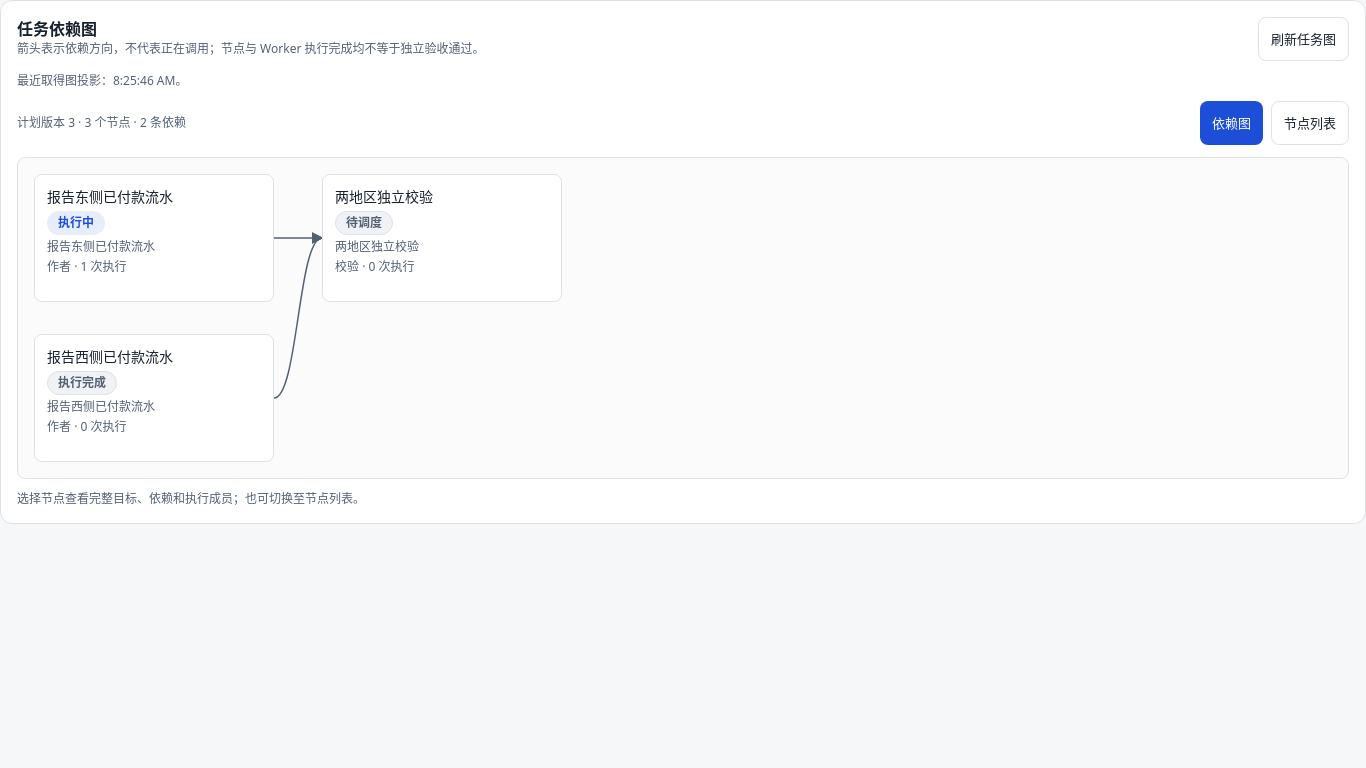
Test: 任务图读取/恢复 › 读取失败保留旧投影并明确陈旧，手动刷新可恢复
Expected: the button with aria-label "查看节点 east，作者，执行中" is shown, 34,174 -> 274,302
What coordinates should you click on to do the following:
click the button "刷新任务图"
I would click on:
 (1304, 39)
Its box is 1258,17 -> 1349,61.
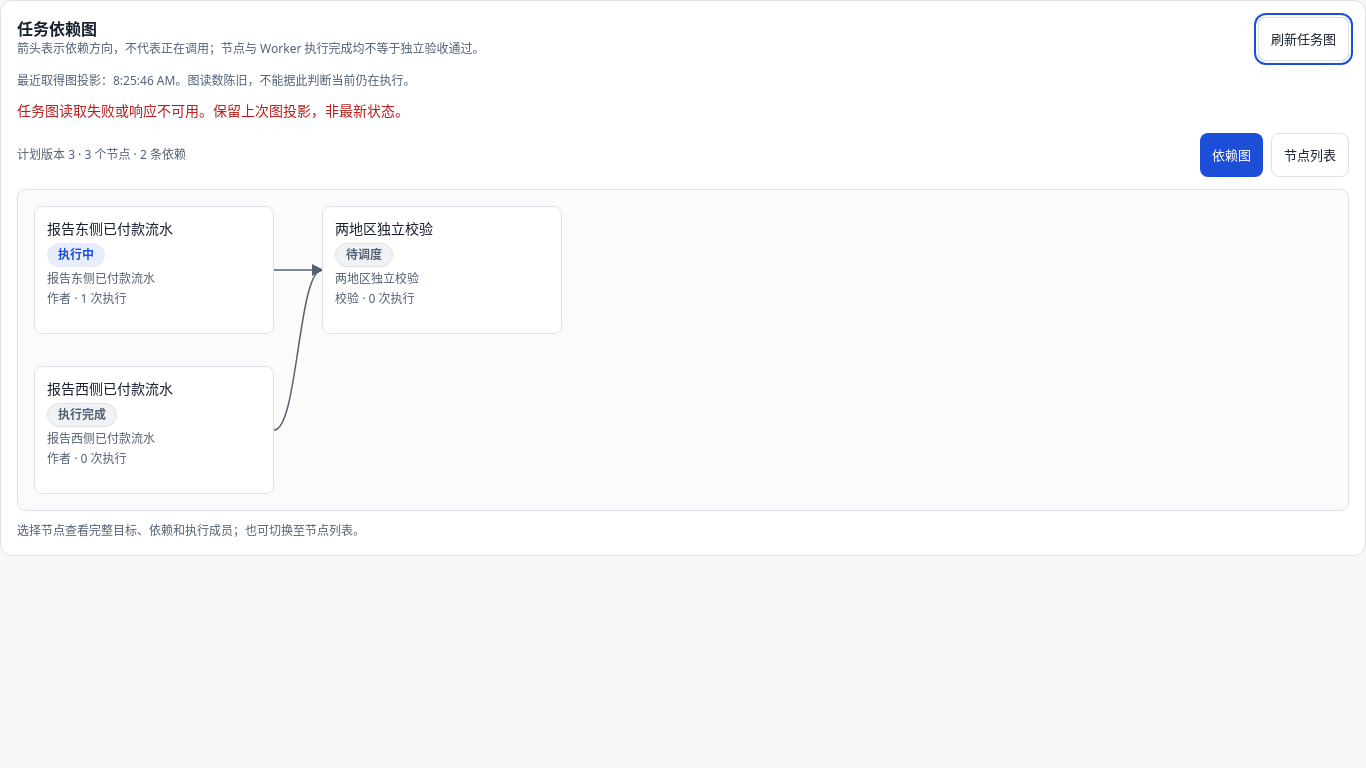
Result: the message "任务图读取失败或响应不可用。保留上次图投影，非最新状态。" is shown at 17,101 -> 409,120
Result: the message "最近取得图投影：8:25:46 AM。图读数陈旧，不能据此判断当前仍在执行。" is shown at 17,72 -> 416,89
What coordinates should you click on to do the following:
click the button "刷新任务图"
I would click on:
 (1304, 39)
Its box is 1258,17 -> 1349,61.
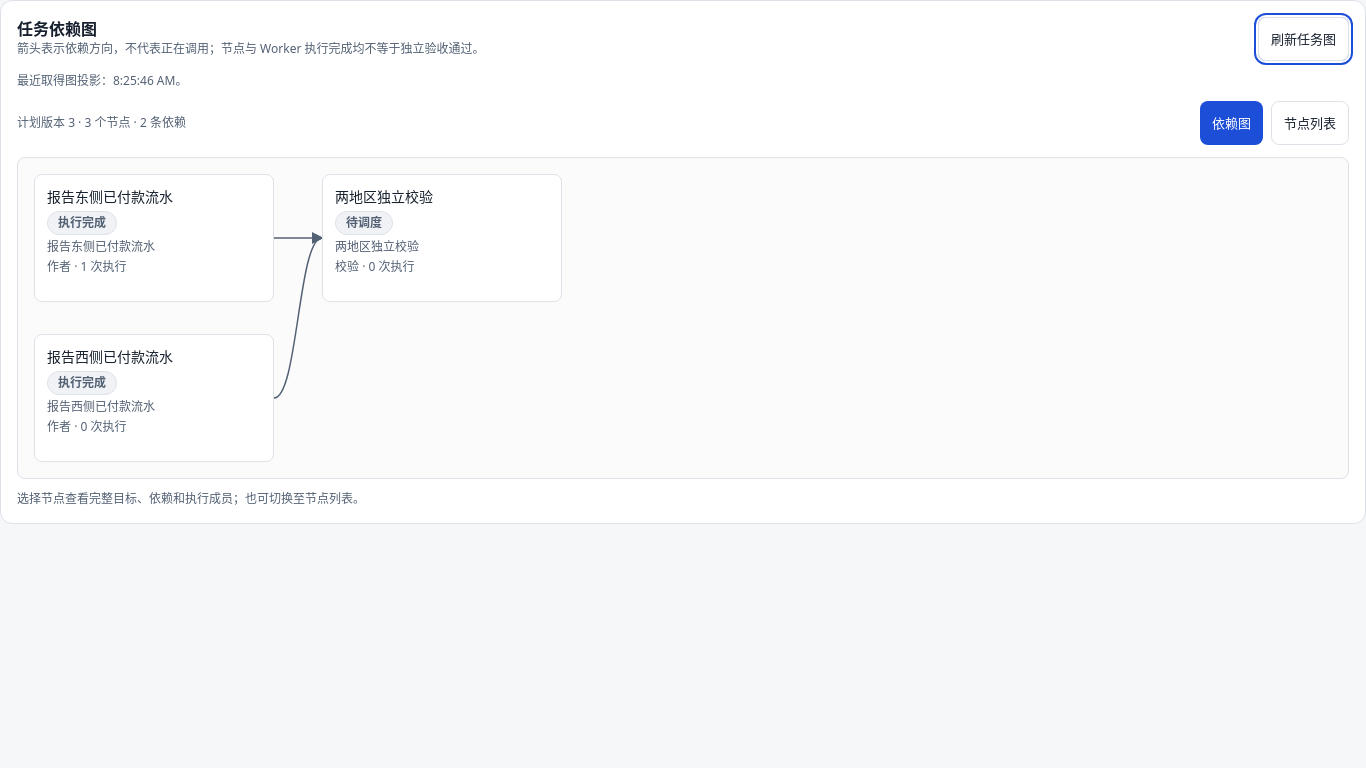
Result: the button with aria-label "查看节点 east，作者，执行完成" is shown at 34,174 -> 274,302
Result: the message "任务图读取失败或响应不可用。保留上次图投影，非最新状态。" is gone
